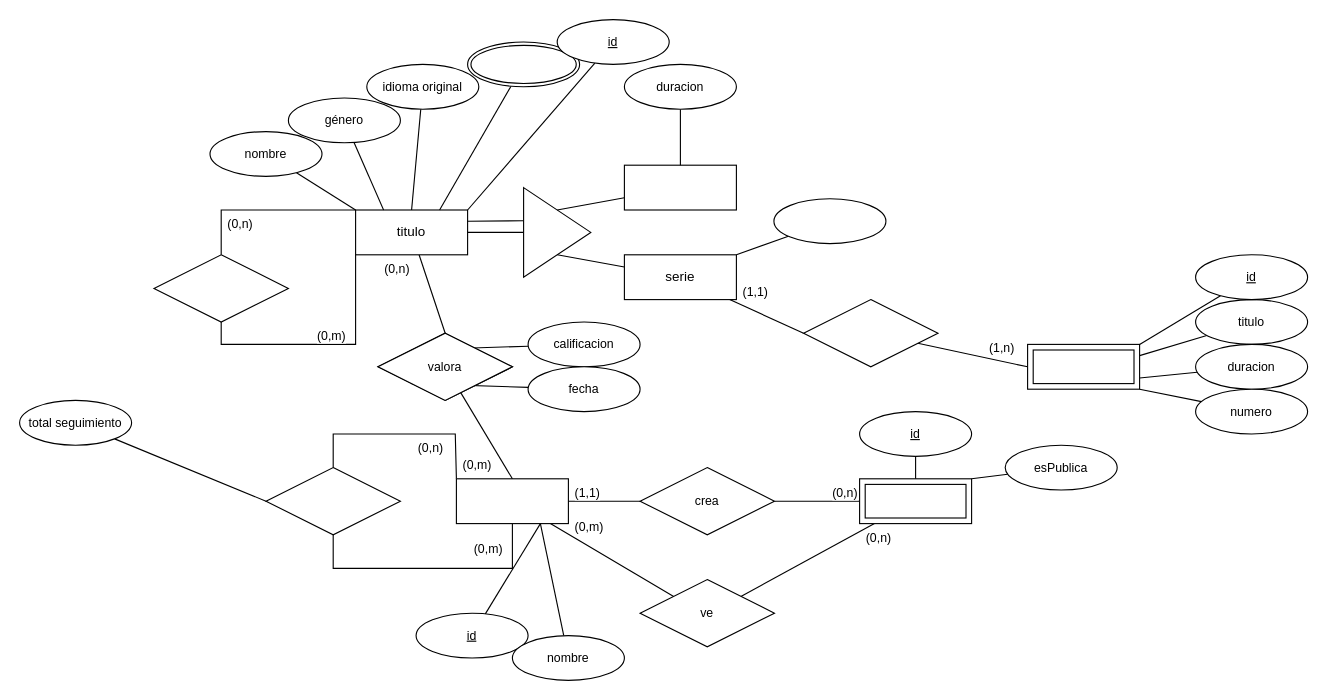
Some shapes in this 1327 by 700 pixel diagram are drawn without their labels. The shapes that lost their labels are listed below. From the top down, each one's box as (x1, y1, x2, y2) in pixels, then its label:
(466, 41, 580, 87): doblaje
(623, 164, 736, 210): pelicula
(522, 186, 591, 277): es
(773, 198, 886, 244): nº temporadas
(153, 254, 288, 322): esta relacionado
(802, 298, 938, 367): tiene
(1026, 343, 1140, 389): episodio
(265, 466, 400, 535): sigue
(455, 478, 568, 524): usuario
(858, 478, 972, 524): lista reproducción
